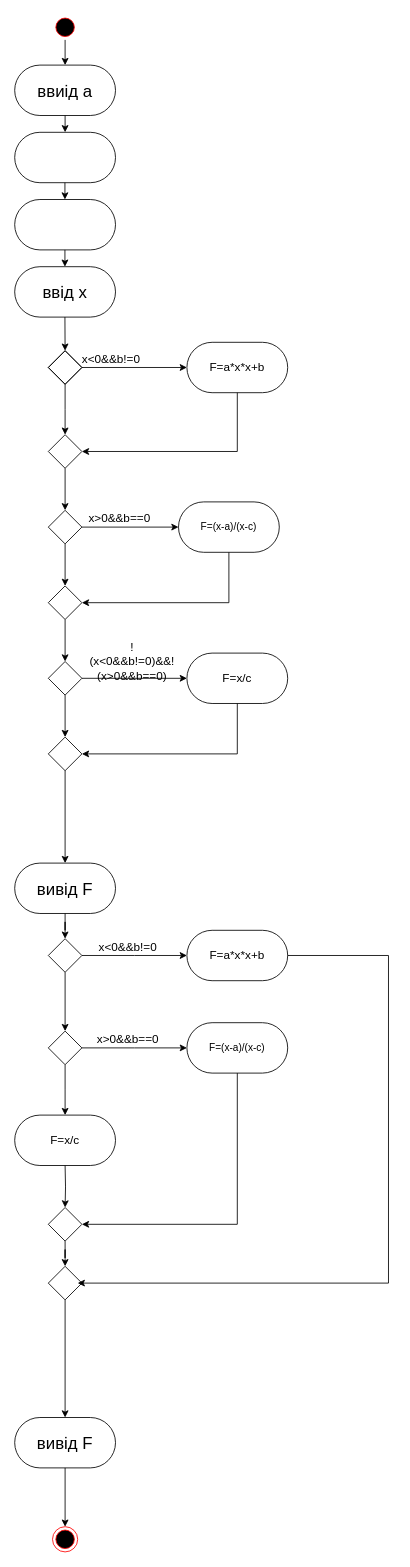
Image size: 410x1567. Some labels were removed from this diagram. The centre of each missing label's shape, as x and y in pixels:
ввід b: the point at 65,157
ввід с: the point at 65,224
